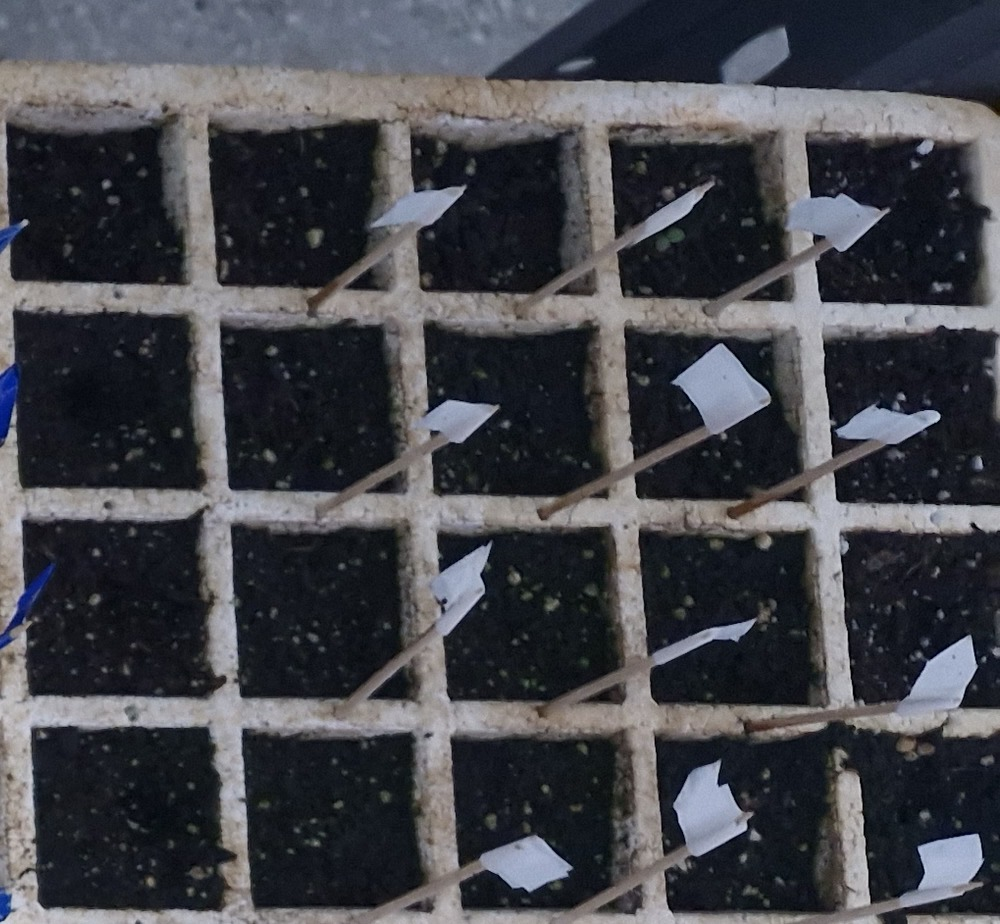Folha: (669, 227, 685, 242), (656, 236, 671, 251)
Germinacao: (656, 228, 688, 251)
